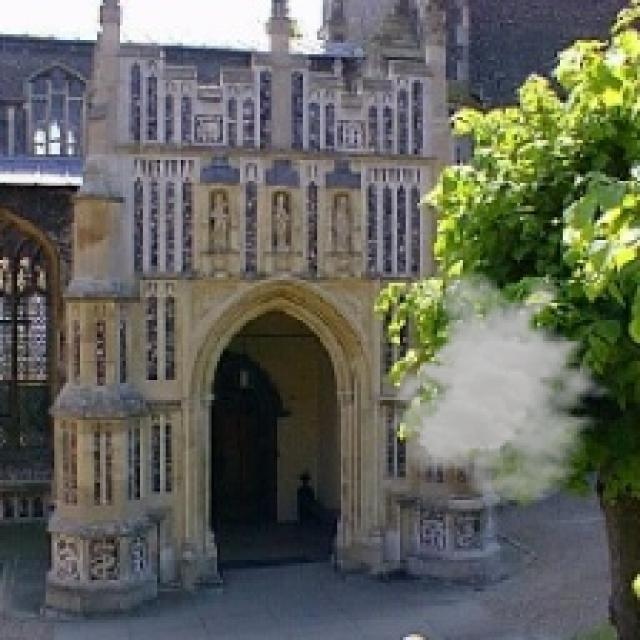Smoke: (386, 268, 623, 506)
